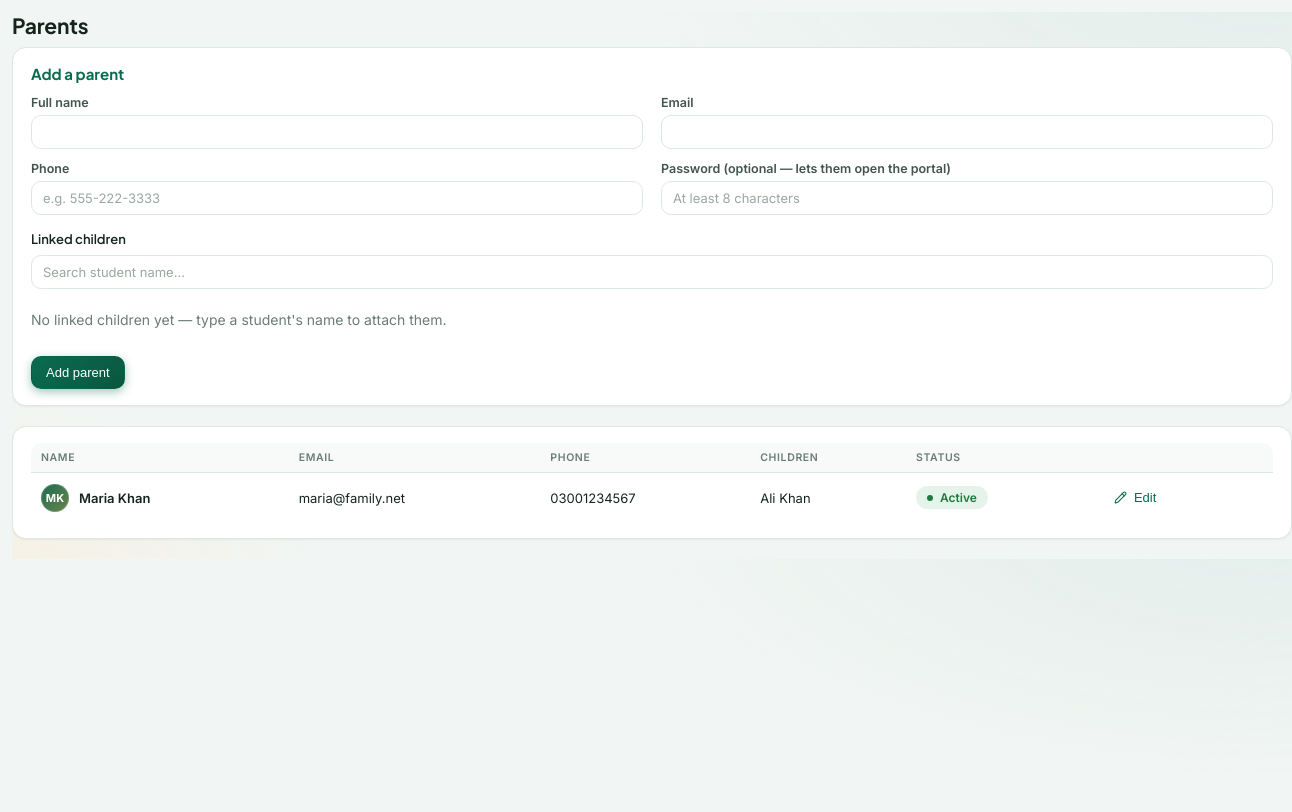
Test: Parents page › edits a parent and saves profile plus linked children
The image size is (1292, 812).
expect the text "Maria Khan" is shown: met, box [79,490,150,506]
Click the button "Edit" at [1135, 498], box [1099,481,1171,514]
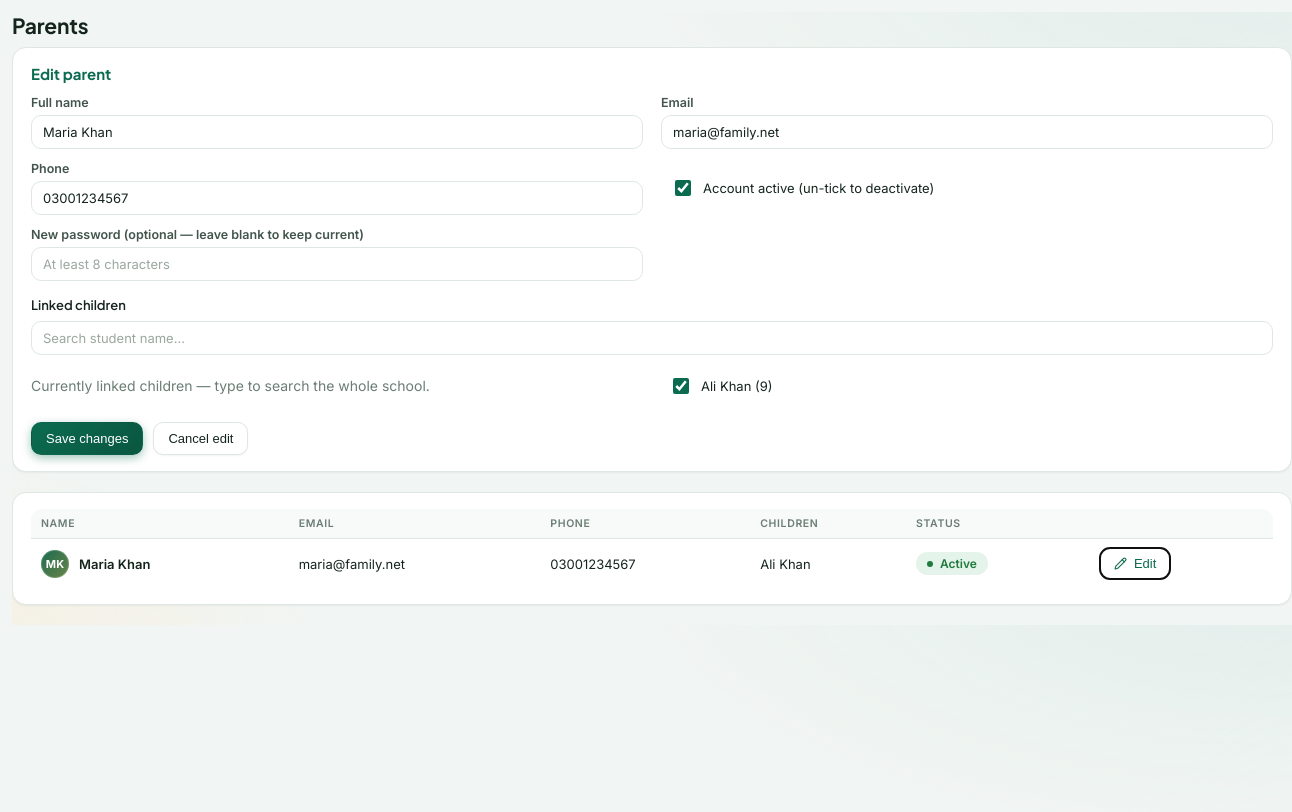
expect the heading "Edit parent" is shown: met, box [31,64,111,83]
Click the button "Save changes" at [87, 438], box [31,422,143,455]
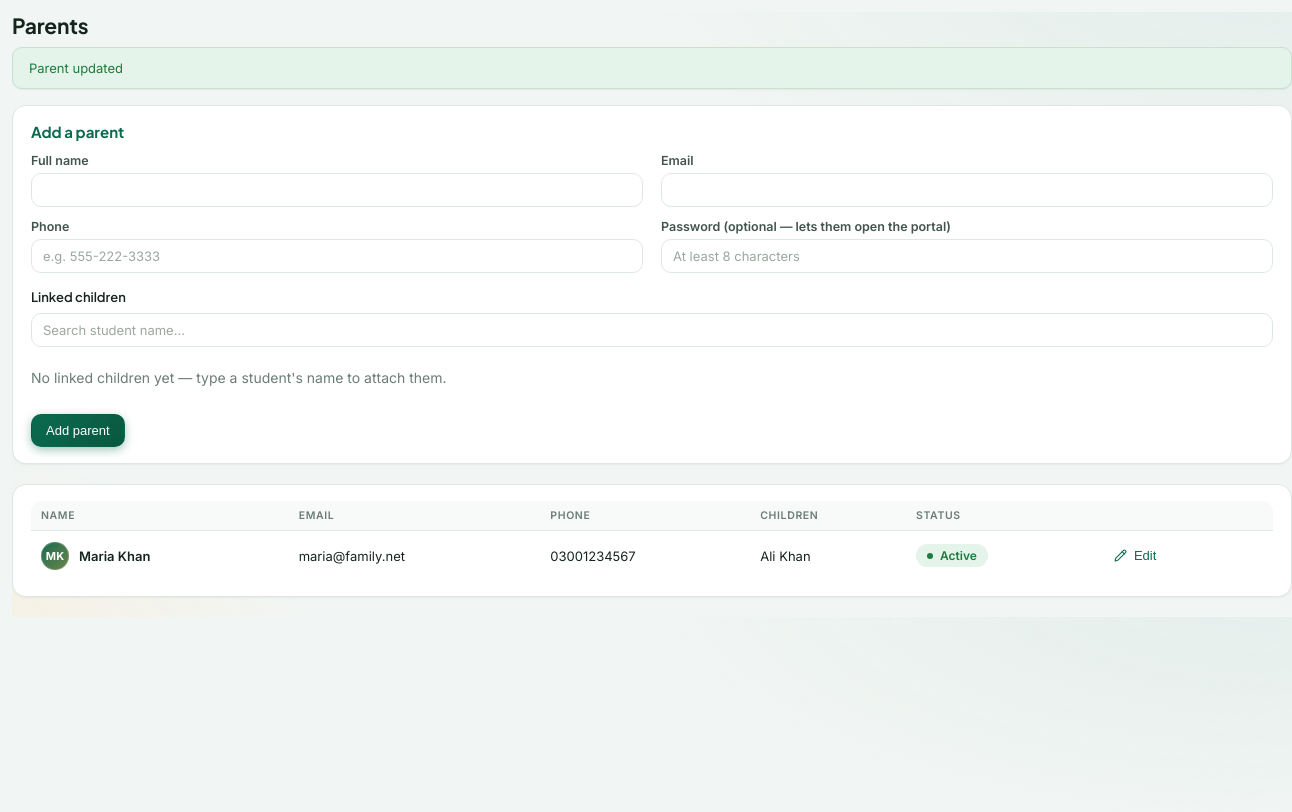
expect the text "Parent updated" is shown: met, box [12,47,1291,89]
